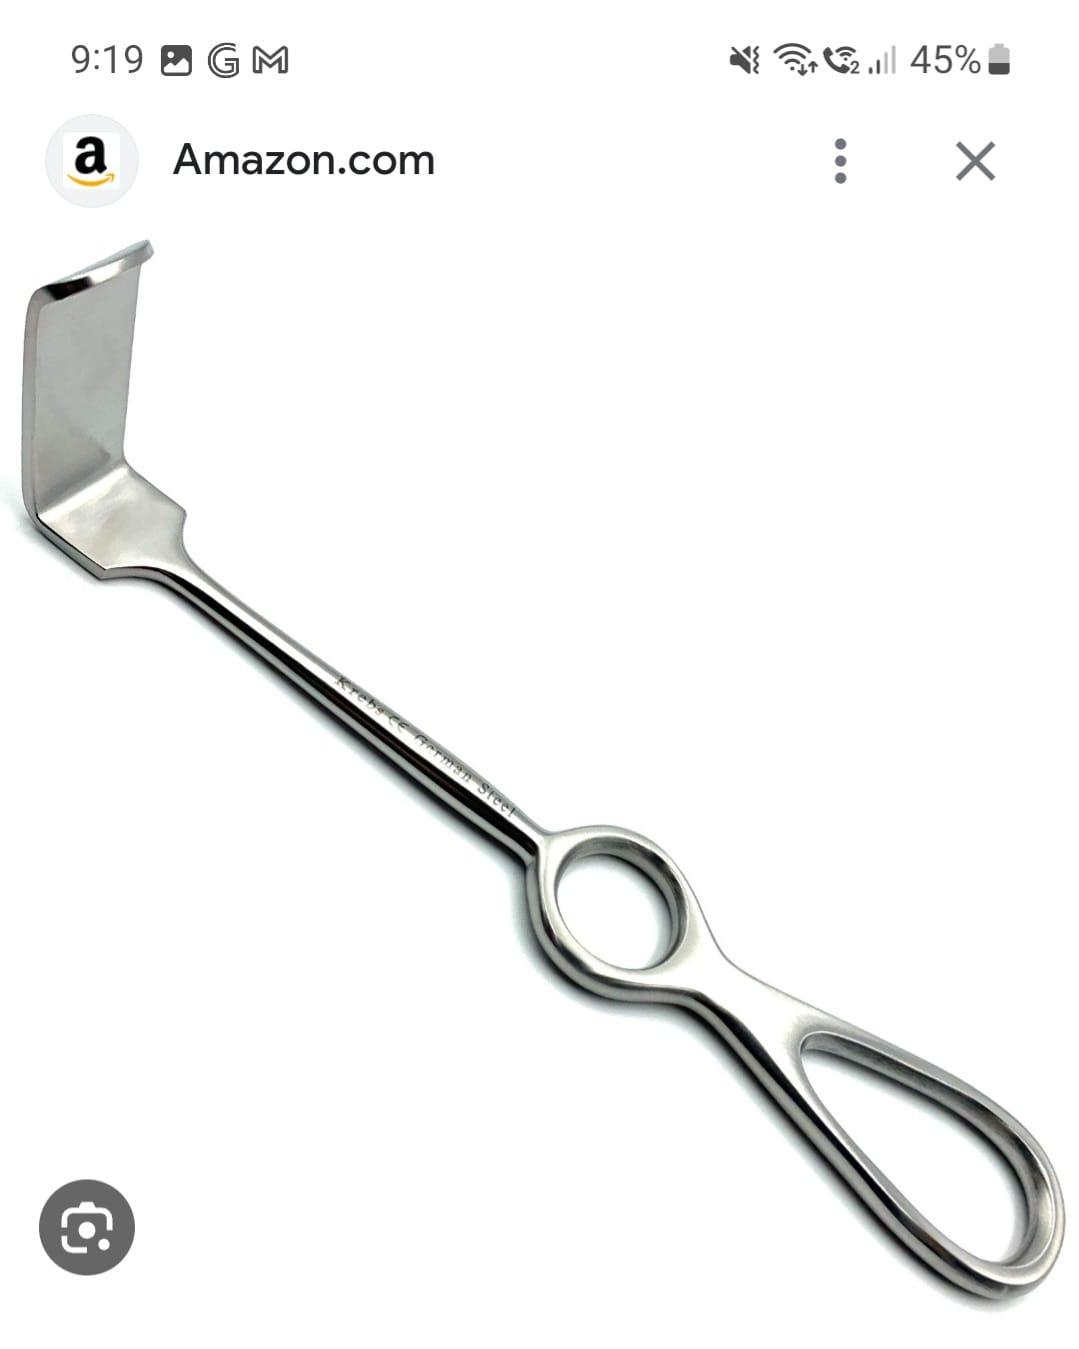Langenbach Retractor: (4, 228, 1068, 1316)
